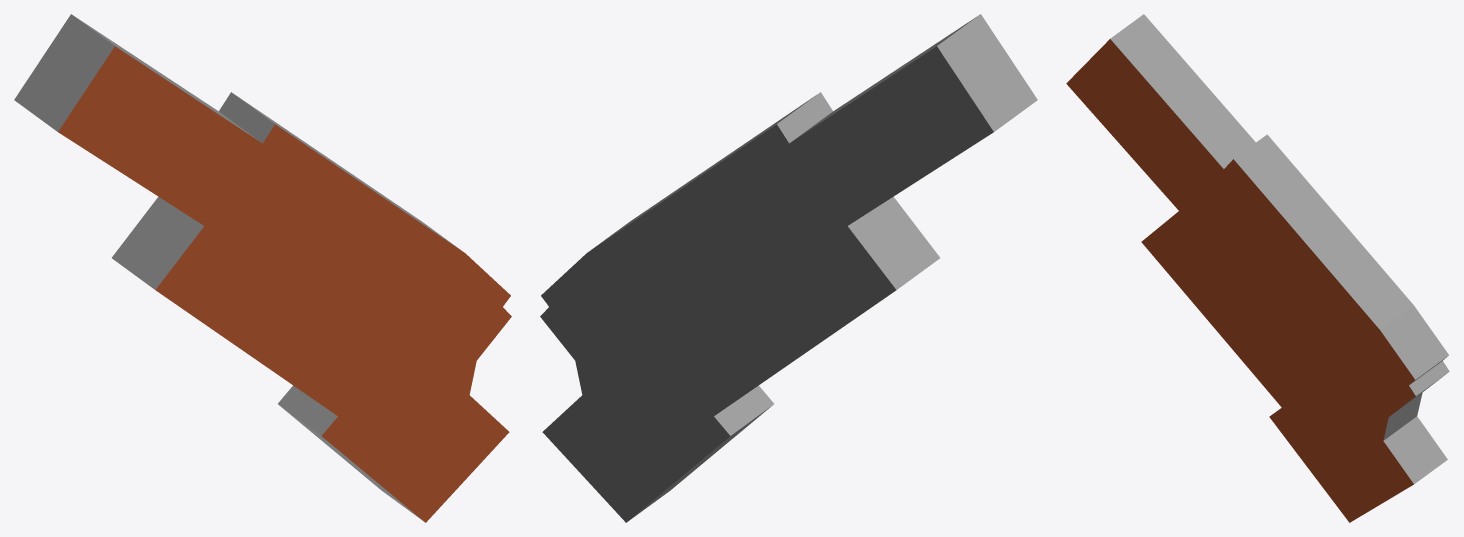
File: construction_3494_assumed_A_Casa_h6m.obj
3 views of the same model, side by side, from view 1: azimuth 30°, elevation 25°; view 2: azimuth 150°, elevation 25°; view 3: azimuth 330°, elevation 25° (orthographic). The views are drawn at different scales.
Parts seen in each view (by area): view 1: construction_3494_assumed_A_Casa; view 2: construction_3494_assumed_A_Casa; view 3: construction_3494_assumed_A_Casa.
Part boxes in pixels (box(x1,y1,x2,y2)): construction_3494_assumed_A_Casa: box(14, 14, 511, 522); construction_3494_assumed_A_Casa: box(540, 14, 1037, 522); construction_3494_assumed_A_Casa: box(1066, 14, 1449, 522).
Bounding box in the file's own units: 35.8 × 41.65 × 6.
